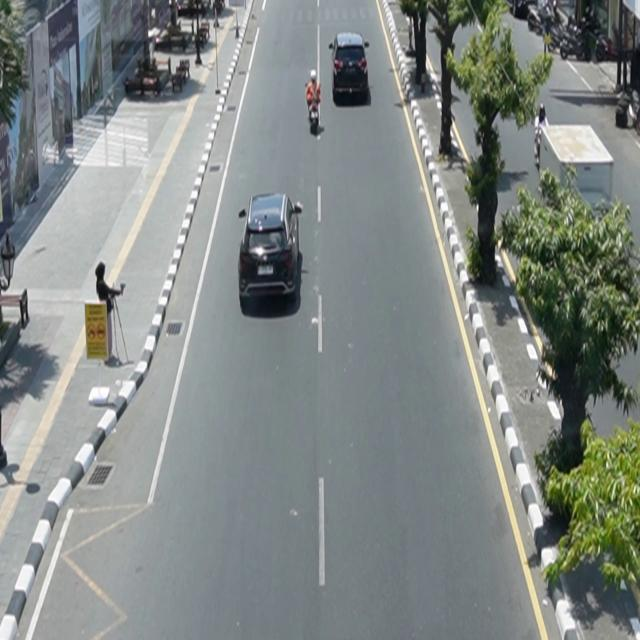car: (239, 193, 304, 305), (329, 32, 371, 101)
